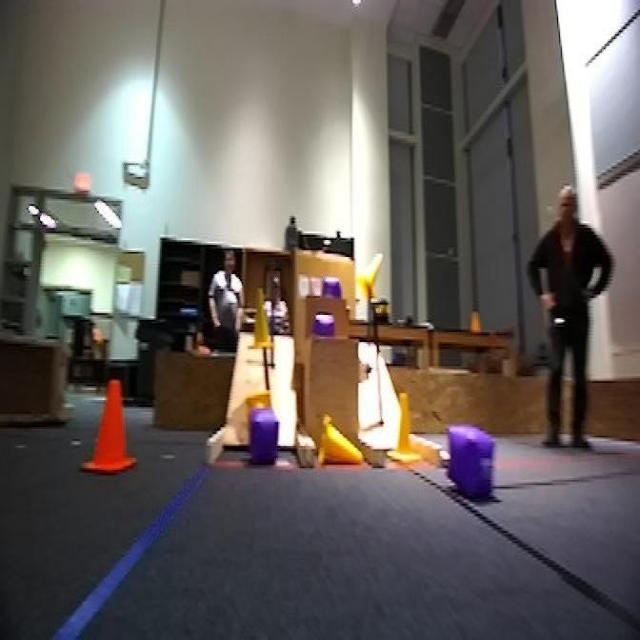frc_cone: (388, 396, 422, 466), (321, 414, 363, 464), (247, 286, 274, 352), (355, 250, 381, 301), (244, 393, 272, 412)
frc_cube: (447, 429, 496, 504), (248, 412, 280, 465), (314, 313, 336, 337), (325, 274, 341, 295)
